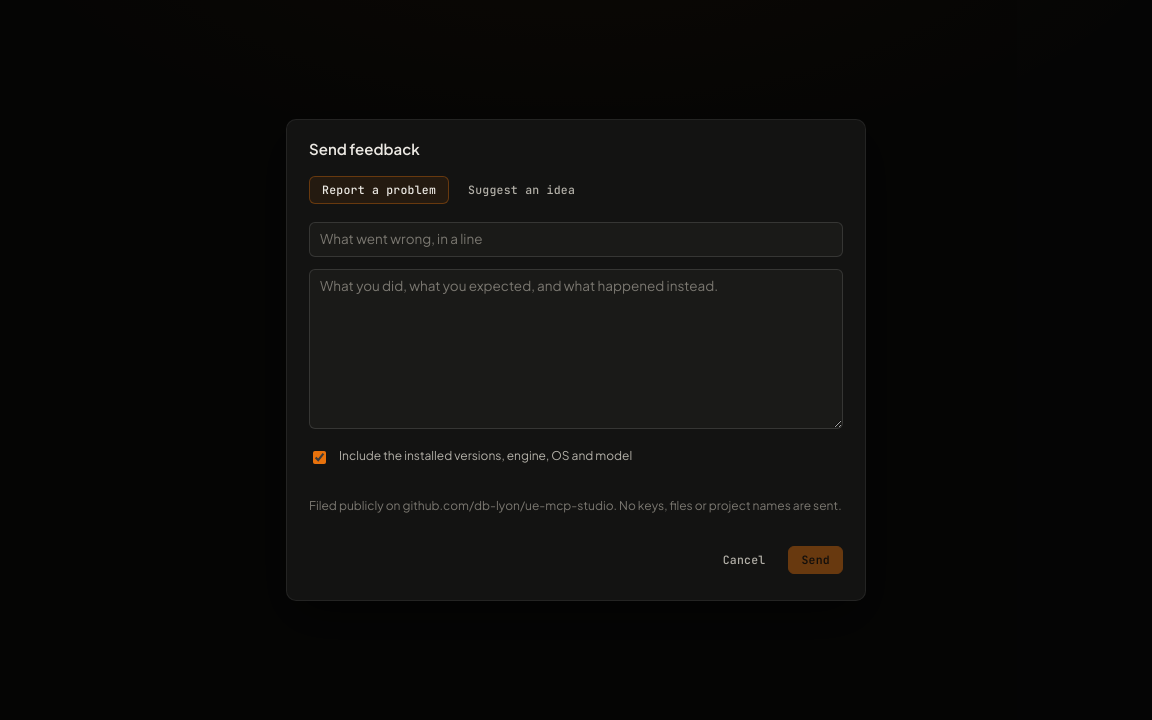
Test: feedback › sends a problem with the environment and shows the issue it became
Expected: the button "Send" is disabled, [788, 546, 843, 574]
Step 1. Type "Changes panel is blank" into the field named "Title" → coordinates (576, 239), box [309, 222, 843, 257]
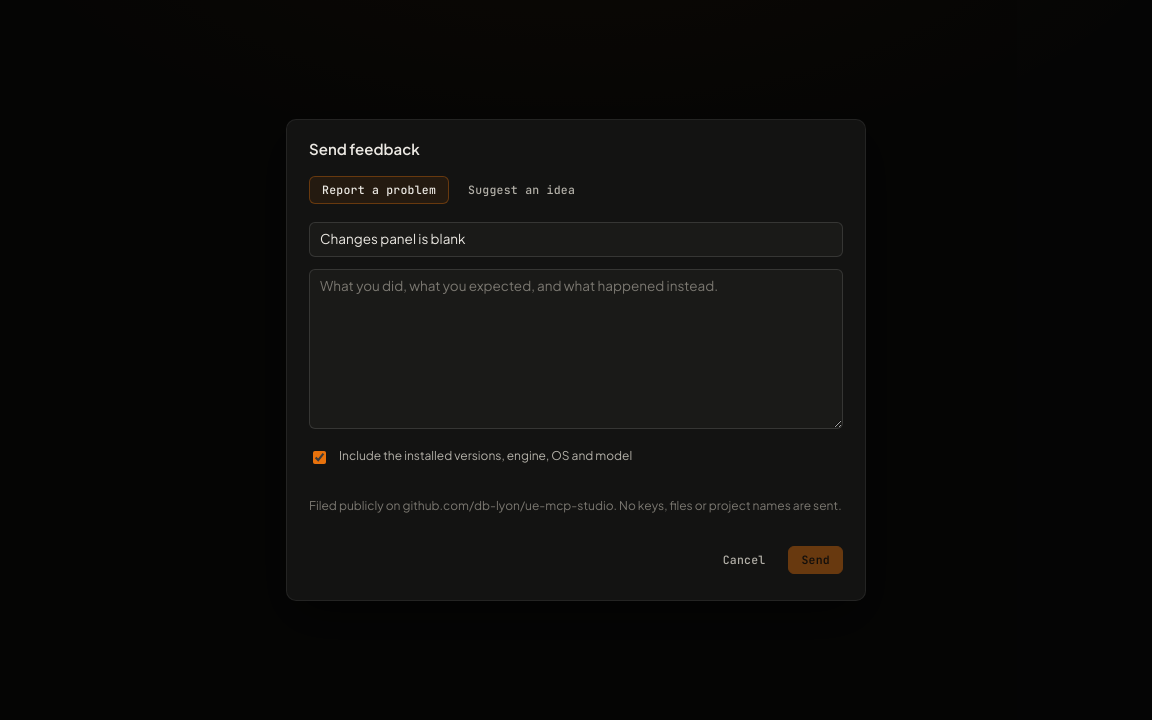
Step 2. Type "Clicking the Git chip opens an empty panel." into the text box named "Description" → coordinates (576, 349), box [309, 269, 843, 429]
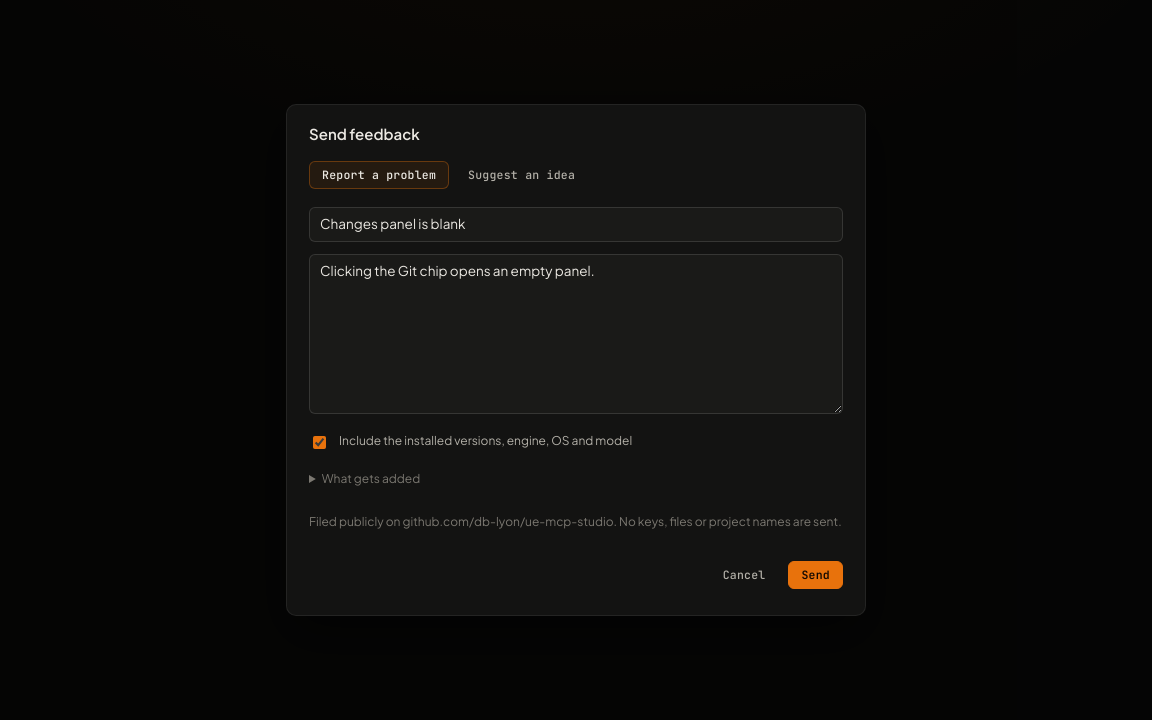
Step 3. Click the button "Send" → coordinates (816, 575), box [788, 561, 843, 589]
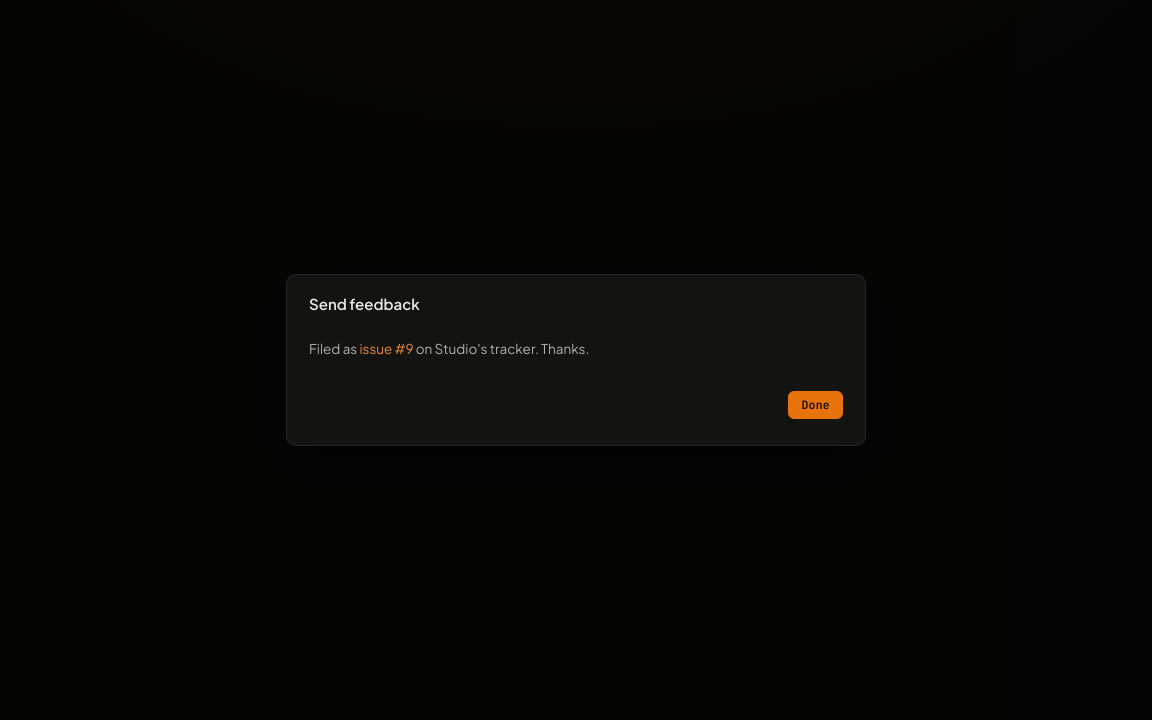
Expected: the link "issue #9" is shown, [360, 340, 413, 357]
